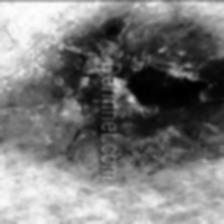Potentially Malignant Skin Tumors: (127, 48, 210, 142)
